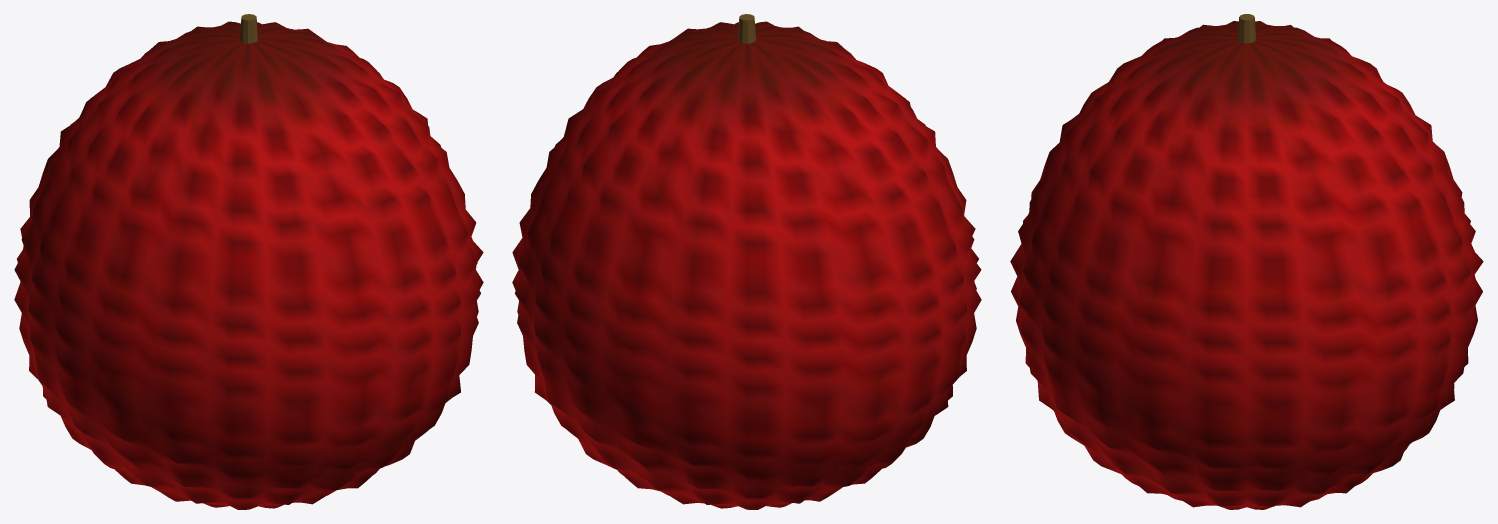
The model's file is letchi.glb.
3 renders of one model, left to right at view 1: azimuth 30°, elevation 25°; view 2: azimuth 150°, elevation 25°; view 3: azimuth 270°, elevation 25°, orthographic.
Visible parts, largest first — view 1: entier_peau, moitie_B_peau, moitie_A_peau; view 2: entier_peau, moitie_A_peau, moitie_B_peau; view 3: entier_peau, moitie_B_peau, moitie_A_peau.
Part boxes in pixels (bbox=[...]): entier_peau: bbox=[14, 21, 483, 509]; moitie_B_peau: bbox=[53, 36, 481, 509]; moitie_A_peau: bbox=[16, 22, 356, 466]; entier_peau: bbox=[512, 21, 981, 509]; moitie_A_peau: bbox=[518, 36, 942, 509]; moitie_B_peau: bbox=[614, 22, 981, 467]; entier_peau: bbox=[1010, 21, 1483, 509]; moitie_B_peau: bbox=[1011, 21, 1246, 509]; moitie_A_peau: bbox=[1247, 21, 1482, 509].
Size of the model in its own units: 1.9 by 2.1 by 1.93.
